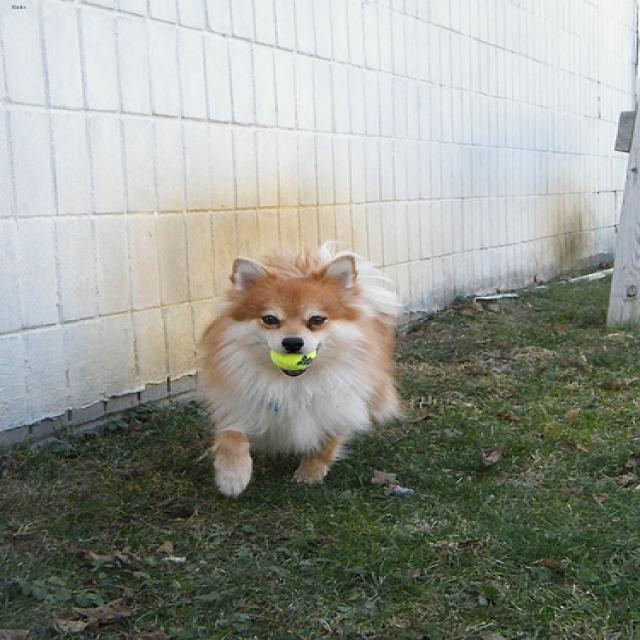dog-pomeranian: (186, 239, 420, 502)
